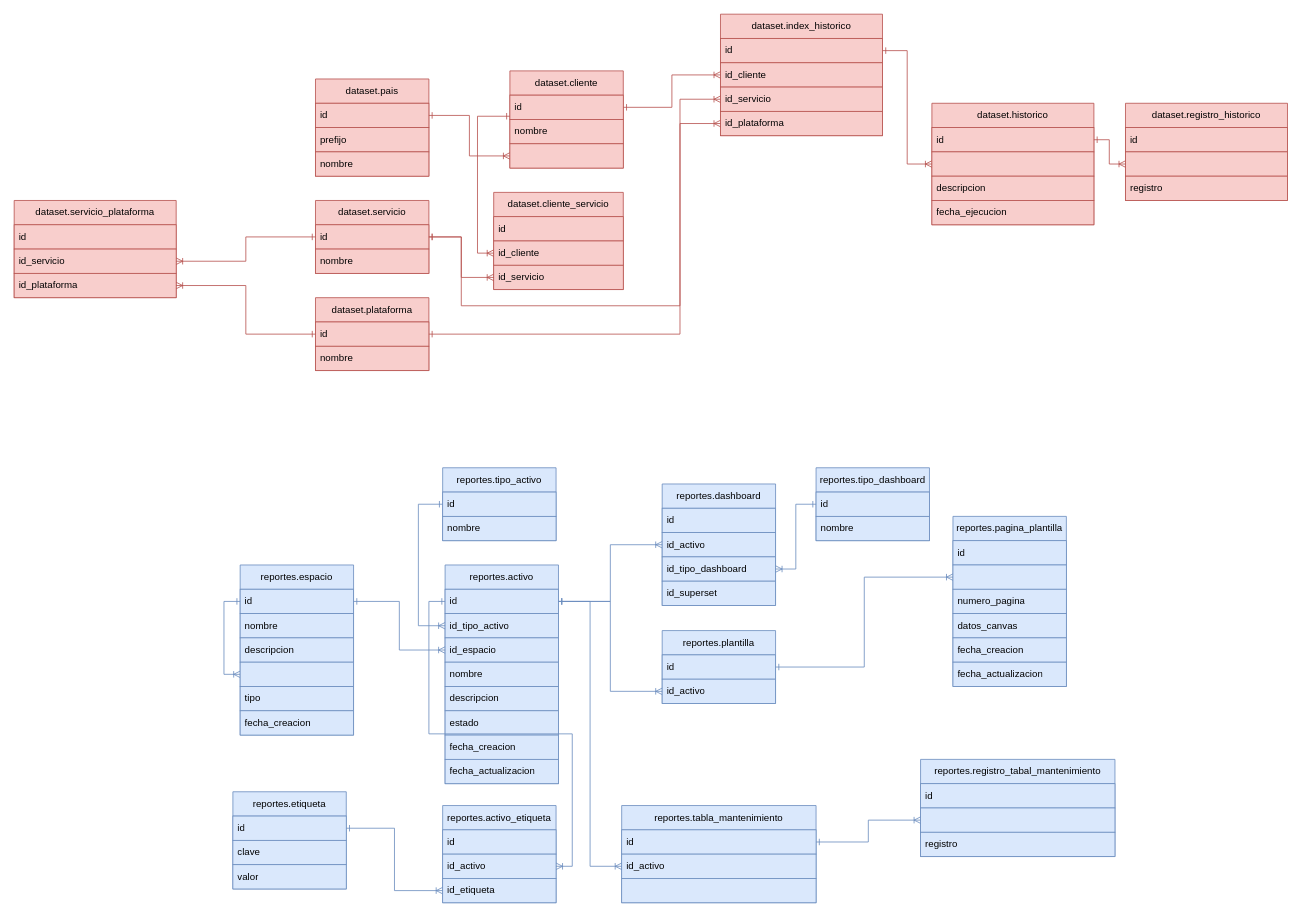
The diagram is 1302 pixels wide and 917 high, and some of its shapes have lost their labels. The shapes that lost their labels are listed below. From the top down, each one's centre as x and y in pixels, then its label:
At (x=566, y=155): "id_pais".
At (x=1012, y=163): "id_index_historico".
At (x=1206, y=163): "id_historico".
At (x=1009, y=576): "id_plantilla".
At (x=296, y=673): "id_espacio_padre".
At (x=1017, y=819): "id_tabla_mantenimiento".
At (x=718, y=890): "esquema".
